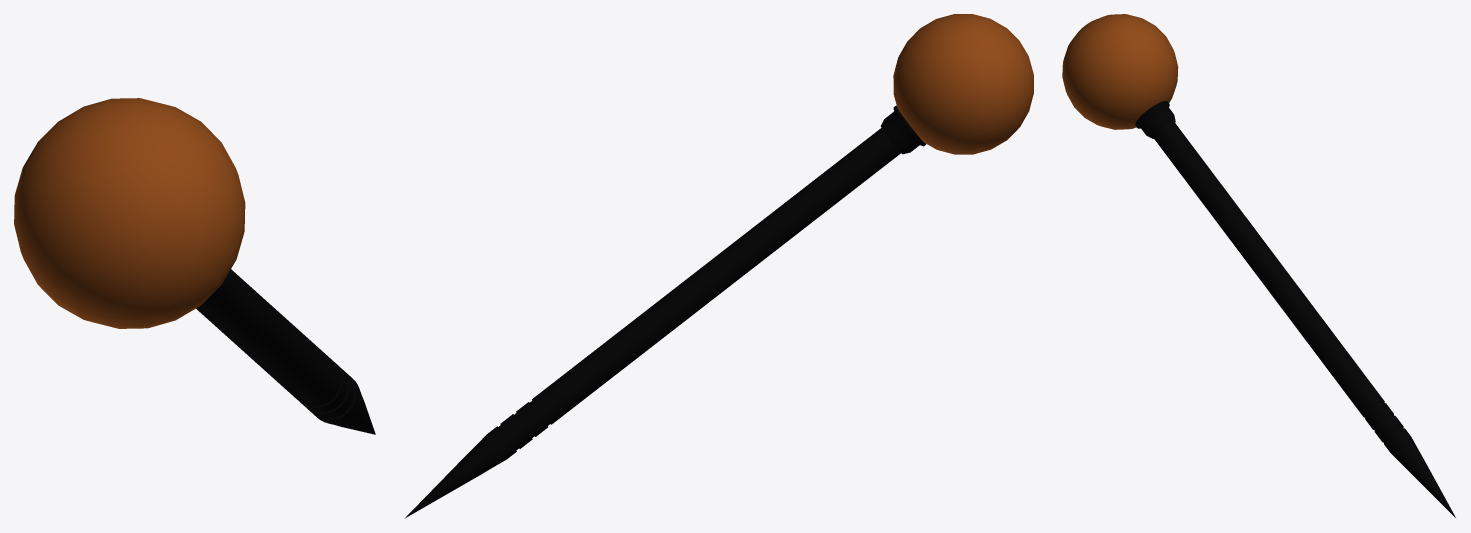
File: SADDLE.glb
3 views of the same model, side by side, from view 1: azimuth 30°, elevation 25°; view 2: azimuth 150°, elevation 25°; view 3: azimuth 270°, elevation 25° (orthographic). The views are drawn at different scales.
Parts seen in each view (by area): view 1: Sphere, Needle; view 2: Needle, Sphere, Ball_Holder; view 3: Needle, Sphere, Ball_Holder.
Boxes of the visible parts, box(x1,y1,x2,y2) form: Sphere: box(14, 98, 245, 328); Needle: box(196, 269, 375, 434); Needle: box(405, 128, 900, 518); Sphere: box(893, 14, 1033, 154); Ball_Holder: box(881, 105, 926, 154); Needle: box(1152, 120, 1455, 517); Sphere: box(1062, 14, 1178, 129); Ball_Holder: box(1135, 101, 1175, 138).
Bounding box in the file's own units: 7.45 × 7.45 × 7.45.
